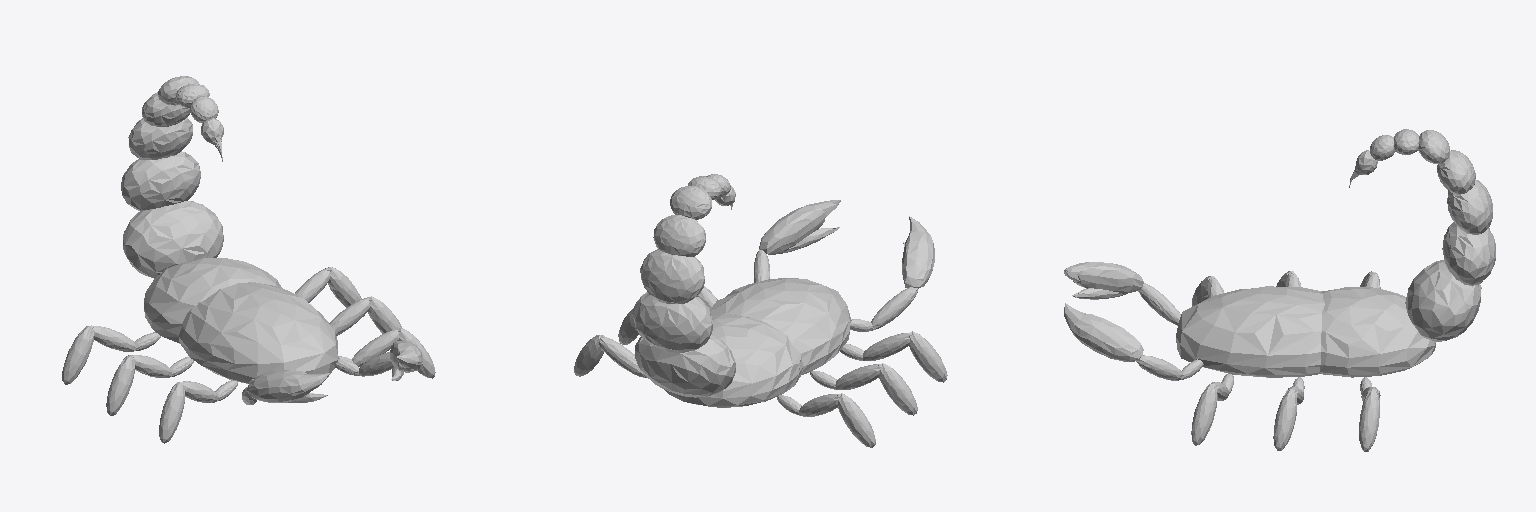
Rendered from scorpion_000015.obj.
The picture shows the model from 3 angles: view 1: azimuth 30°, elevation 25°; view 2: azimuth 150°, elevation 25°; view 3: azimuth 270°, elevation 25°; orthographic projection.
Parts seen in each view (by area): view 1: Sphere.010_Sphere.012, Sphere.002_Sphere.004, Sphere.011_Sphere.013, Sphere.003_Sphere.005, Sphere.030_Sphere.000, Sphere.004_Sphere.006, Sphere.014_Sphere.023, Sphere.012_Sphere.020, Sphere.000_Sphere.019, Sphere.016_Sphere.022, Sphere.013_Sphere.017, Sphere.018_Sphere.025 (+5 smaller); view 2: Sphere.010_Sphere.012, Sphere.011_Sphere.013, Sphere.002_Sphere.004, Sphere.030_Sphere.000, Sphere.003_Sphere.005, Sphere.004_Sphere.006, Sphere.014_Sphere.023, Sphere.005_Sphere.007, Sphere.012_Sphere.020, Sphere.018_Sphere.025, Sphere.028_Sphere.046, Sphere.006_Sphere.008 (+3 smaller); view 3: Sphere.010_Sphere.012, Sphere.011_Sphere.013, Sphere.002_Sphere.004, Sphere.030_Sphere.000, Sphere.003_Sphere.005, Sphere.004_Sphere.006, Sphere.028_Sphere.046, Sphere.000_Sphere.019, Sphere.005_Sphere.007, Sphere.012_Sphere.020, Sphere.014_Sphere.023, Sphere.006_Sphere.008 (+1 smaller).
Boxes of the visible parts, x1,y1,x2,y2 form: Sphere.010_Sphere.012: [179, 282, 338, 383]; Sphere.002_Sphere.004: [123, 201, 223, 278]; Sphere.011_Sphere.013: [144, 258, 281, 343]; Sphere.003_Sphere.005: [121, 151, 200, 210]; Sphere.030_Sphere.000: [247, 340, 422, 402]; Sphere.004_Sphere.006: [128, 117, 192, 159]; Sphere.014_Sphere.023: [62, 267, 361, 384]; Sphere.012_Sphere.020: [106, 296, 401, 415]; Sphere.000_Sphere.019: [159, 328, 435, 443]; Sphere.016_Sphere.022: [128, 298, 369, 377]; Sphere.013_Sphere.017: [181, 328, 399, 402]; Sphere.018_Sphere.025: [91, 269, 329, 351]; Sphere.010_Sphere.012: [710, 278, 850, 374]; Sphere.011_Sphere.013: [664, 313, 802, 407]; Sphere.002_Sphere.004: [635, 334, 735, 397]; Sphere.030_Sphere.000: [759, 200, 934, 288]; Sphere.003_Sphere.005: [632, 292, 712, 352]; Sphere.004_Sphere.006: [640, 249, 704, 303]; Sphere.014_Sphere.023: [574, 335, 875, 447]; Sphere.005_Sphere.007: [653, 215, 705, 256]; Sphere.012_Sphere.020: [618, 308, 917, 415]; Sphere.018_Sphere.025: [599, 336, 840, 416]; Sphere.028_Sphere.046: [754, 250, 917, 329]; Sphere.006_Sphere.008: [670, 186, 711, 219]; Sphere.010_Sphere.012: [1176, 286, 1324, 377]; Sphere.011_Sphere.013: [1320, 287, 1435, 377]; Sphere.002_Sphere.004: [1405, 260, 1481, 341]; Sphere.030_Sphere.000: [1064, 262, 1143, 361]; Sphere.003_Sphere.005: [1442, 222, 1495, 285]; Sphere.004_Sphere.006: [1447, 179, 1492, 234]; Sphere.028_Sphere.046: [1136, 283, 1183, 380]; Sphere.000_Sphere.019: [1191, 276, 1217, 445]; Sphere.005_Sphere.007: [1437, 150, 1475, 194]; Sphere.012_Sphere.020: [1273, 271, 1296, 450]; Sphere.014_Sphere.023: [1359, 271, 1379, 451]; Sphere.006_Sphere.008: [1418, 130, 1449, 163].
Size of the model in its own units: 0.9547 by 0.7556 by 1.19.